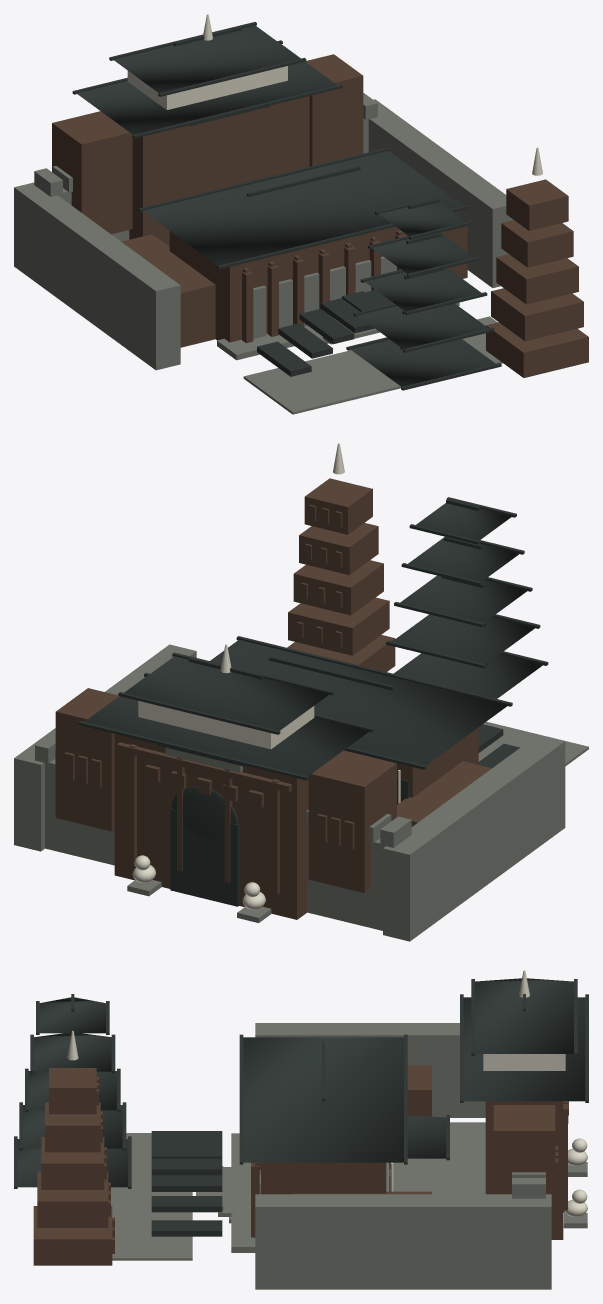
Rendered from tang-dynasty-city.glb.
3 renders of one model, top to bottom at view 1: azimuth 30°, elevation 25°; view 2: azimuth 150°, elevation 25°; view 3: azimuth 270°, elevation 25°, orthographic. The views are drawn at different scales.
Visible parts, largest first — view 1: city-wall/form (×2), palace-hall/daming-hall-roof, great-gate/form, gate-corner-pavilions/corner-tower-0, gate-roof/great-gate-upper-roof, gate-roof/great-gate-lower-roof, palace-hall/form, palace-pond/form, gate-corner-pavilions/corner-tower-1, temple-facades-and-brackets/side-hall--1, multi-storey-pagoda/pagoda-roof-0, multi-storey-pagoda/pagoda-storey-0 (+28 smaller); view 2: city-wall/form (×3), great-gate/form, palace-hall/daming-hall-roof, gate-corner-pavilions/corner-tower-0, gate-roof/great-gate-upper-roof, gate-roof/great-gate-lower-roof, gate-corner-pavilions/corner-tower-1, great-gate/deep-gate-opening, multi-storey-pagoda/pagoda-roof-1, multi-storey-pagoda/pagoda-storey-1, multi-storey-pagoda/pagoda-roof-0, multi-storey-pagoda/pagoda-roof-2 (+20 smaller); view 3: city-wall/form (×2), palace-hall/daming-hall-roof, gate-roof/great-gate-upper-roof, palace-pond/form, gate-roof/great-gate-lower-roof, gate-corner-pavilions/corner-tower-1, ceremonial-courtyard/form, palace-hall/form, multi-storey-pagoda/pagoda-storey-0, multi-storey-pagoda/pagoda-storey-1, multi-storey-pagoda/pagoda-roof-3, multi-storey-pagoda/pagoda-storey-2 (+25 smaller).
Part boxes in pixels (x1=…): city-wall/form (×2): x1=14, y1=99, x2=513, y2=370; palace-hall/daming-hall-roof: x1=143, y1=151, x2=463, y2=265; great-gate/form: x1=129, y1=96, x2=309, y2=246; gate-corner-pavilions/corner-tower-0: x1=52, y1=111, x2=132, y2=234; gate-roof/great-gate-upper-roof: x1=113, y1=25, x2=300, y2=92; gate-roof/great-gate-lower-roof: x1=77, y1=44, x2=336, y2=134; palace-hall/form: x1=169, y1=226, x2=407, y2=342; palace-pond/form: x1=243, y1=316, x2=502, y2=414; gate-corner-pavilions/corner-tower-1: x1=305, y1=54, x2=363, y2=166; temple-facades-and-brackets/side-hall--1: x1=121, y1=234, x2=215, y2=347; multi-storey-pagoda/pagoda-roof-0: x1=350, y1=339, x2=495, y2=386; multi-storey-pagoda/pagoda-storey-0: x1=486, y1=322, x2=588, y2=377; city-wall/form (×3): x1=14, y1=644, x2=565, y2=941; great-gate/form: x1=114, y1=734, x2=308, y2=919; palace-hall/daming-hall-roof: x1=210, y1=639, x2=507, y2=765; gate-corner-pavilions/corner-tower-0: x1=308, y1=750, x2=396, y2=893; gate-roof/great-gate-upper-roof: x1=124, y1=656, x2=329, y2=730; gate-roof/great-gate-lower-roof: x1=84, y1=676, x2=369, y2=776; gate-corner-pavilions/corner-tower-1: x1=55, y1=688, x2=118, y2=831; great-gate/deep-gate-opening: x1=170, y1=808, x2=239, y2=906; multi-storey-pagoda/pagoda-roof-1: x1=392, y1=614, x2=535, y2=664; multi-storey-pagoda/pagoda-storey-1: x1=288, y1=597, x2=389, y2=655; multi-storey-pagoda/pagoda-roof-0: x1=393, y1=653, x2=543, y2=698; multi-storey-pagoda/pagoda-roof-2: x1=400, y1=575, x2=527, y2=622; city-wall/form (×2): x1=255, y1=1023, x2=551, y2=1289; palace-hall/daming-hall-roof: x1=243, y1=1037, x2=403, y2=1162; gate-roof/great-gate-upper-roof: x1=475, y1=978, x2=573, y2=1053; palace-pond/form: x1=111, y1=1133, x2=192, y2=1260; gate-roof/great-gate-lower-roof: x1=463, y1=997, x2=585, y2=1101; gate-corner-pavilions/corner-tower-1: x1=493, y1=1105, x2=555, y2=1232; ceremonial-courtyard/form: x1=386, y1=1122, x2=485, y2=1194; palace-hall/form: x1=261, y1=1162, x2=386, y2=1194; multi-storey-pagoda/pagoda-storey-0: x1=33, y1=1206, x2=112, y2=1265; multi-storey-pagoda/pagoda-storey-1: x1=37, y1=1171, x2=108, y2=1227; multi-storey-pagoda/pagoda-roof-3: x1=34, y1=1033, x2=111, y2=1071; multi-storey-pagoda/pagoda-storey-2: x1=41, y1=1137, x2=104, y2=1189.
Bounding box in the file's own units: 19.1 × 11.01 × 25.21.
